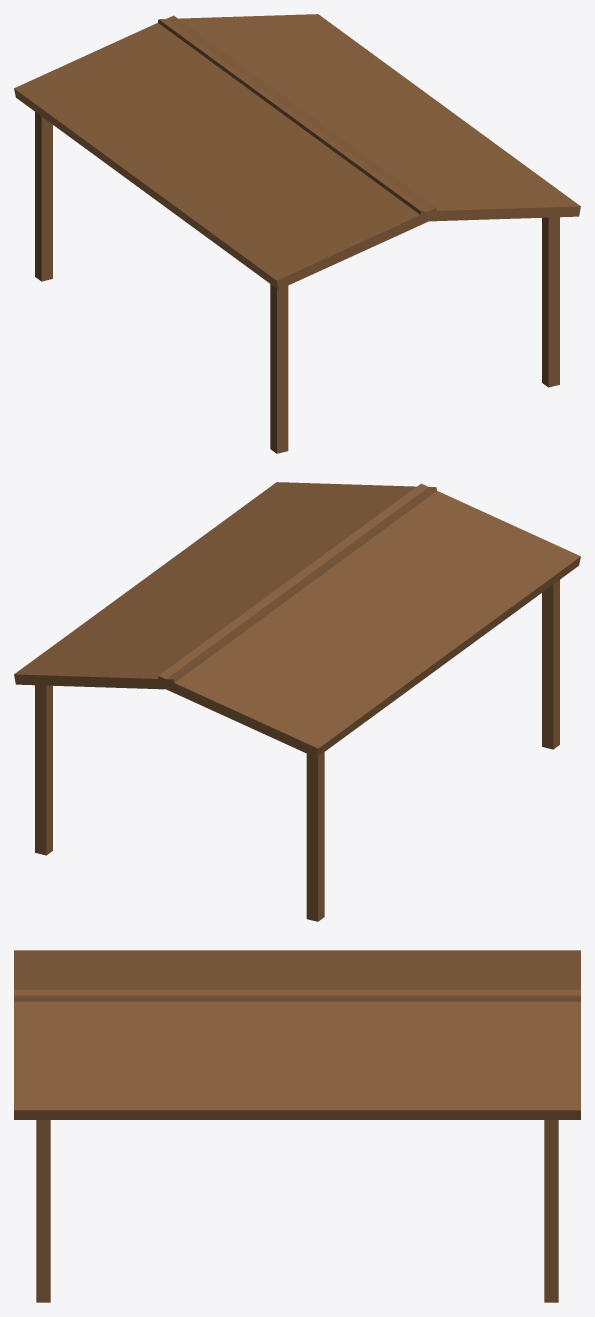
3 views of the same model, one above another, from view 1: azimuth 30°, elevation 25°; view 2: azimuth 150°, elevation 25°; view 3: azimuth 270°, elevation 25° (orthographic). The views are drawn at different scales.
Parts seen in each view (by area): view 1: shelter-roof--1, shelter-roof-1, 쉼터 정자; view 2: shelter-roof--1, shelter-roof-1, 쉼터 정자; view 3: shelter-roof-1, shelter-roof--1, 쉼터 정자.
Part boxes in pixels (x1,y1,x2,y2): shelter-roof--1: (14, 15, 438, 289); shelter-roof-1: (158, 14, 580, 221); 쉼터 정자: (35, 112, 559, 453); shelter-roof--1: (156, 483, 580, 757); shelter-roof-1: (14, 482, 436, 689); 쉼터 정자: (35, 580, 559, 921); shelter-roof-1: (14, 989, 580, 1119); shelter-roof--1: (14, 950, 580, 1001); 쉼터 정자: (36, 1120, 558, 1302).
Size of the model in its own units: 4.48 by 3.06 by 6.7.
